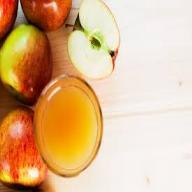apple: (2, 108, 46, 185), (4, 28, 52, 98), (19, 1, 70, 33)
